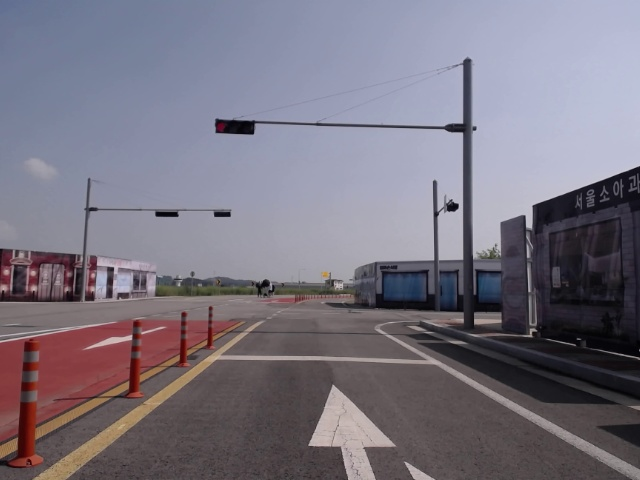red_3: (215, 120, 254, 134)
